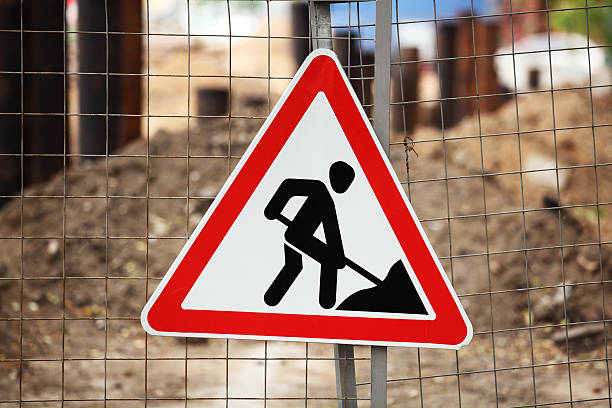yol_calismasi_levha: (139, 40, 476, 352)
